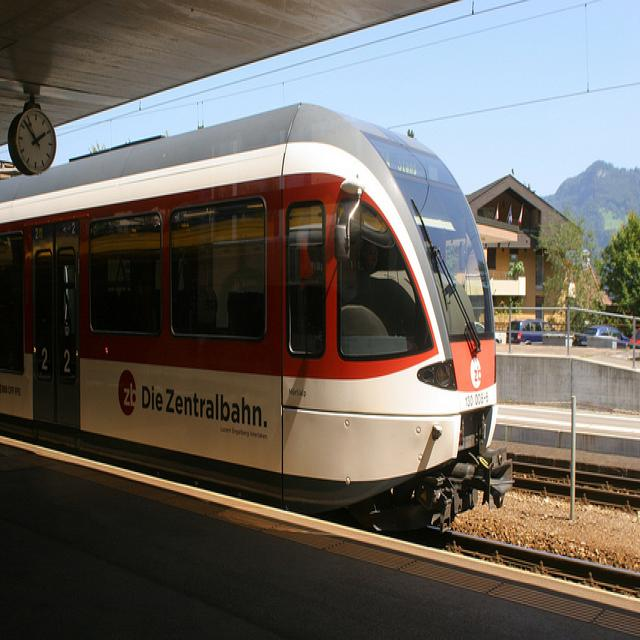Vehicle: (505, 320, 565, 344), (572, 324, 630, 348), (475, 322, 502, 342), (628, 328, 640, 347), (540, 320, 559, 332)
